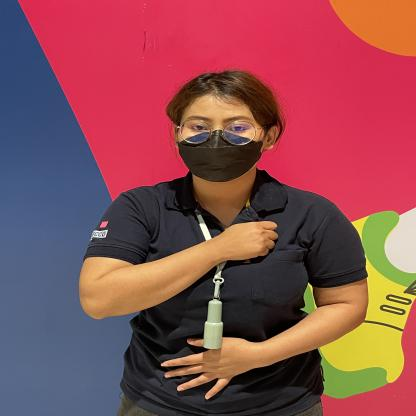Sadness: (184, 209, 316, 298)
